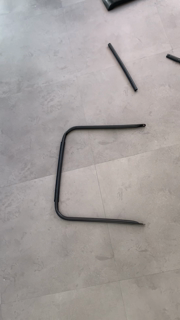C pipe: (52, 122, 153, 231)
i pipe: (106, 42, 140, 95)
